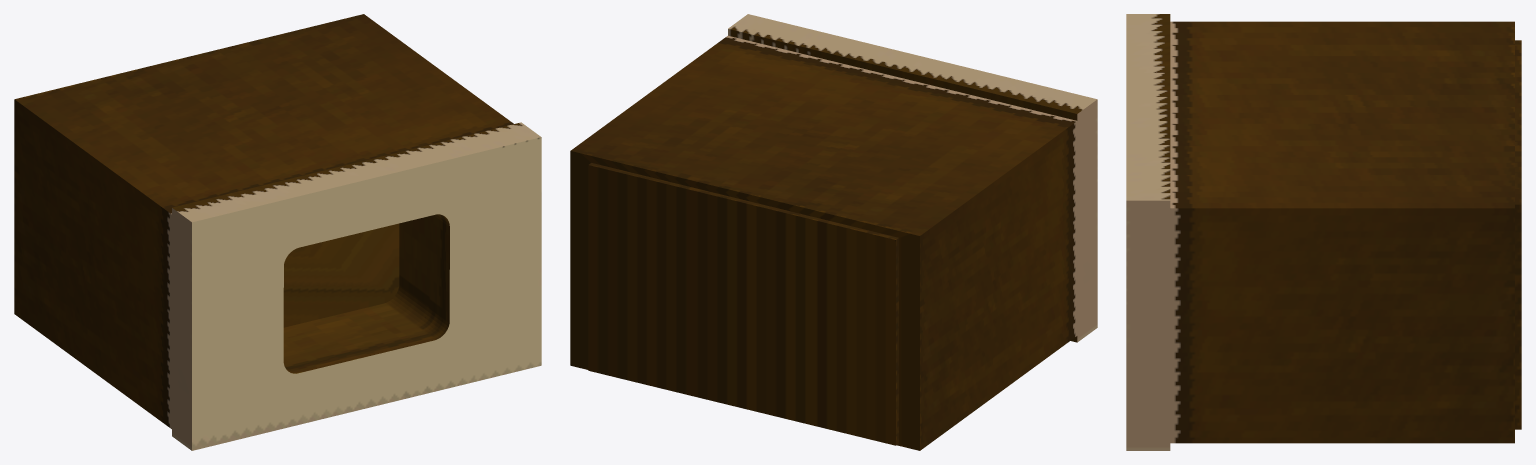
The model's file is pz_counter_modern_floor__sink_inset_rect.obj.
The picture shows the model from 3 angles, left to right: view 1: azimuth 30°, elevation 25°; view 2: azimuth 150°, elevation 25°; view 3: azimuth 270°, elevation 25°; orthographic projection. The views are drawn at different scales.
Size of the model in its own units: 1 by 0.6266 by 0.895.
1 material, 1 textured.
